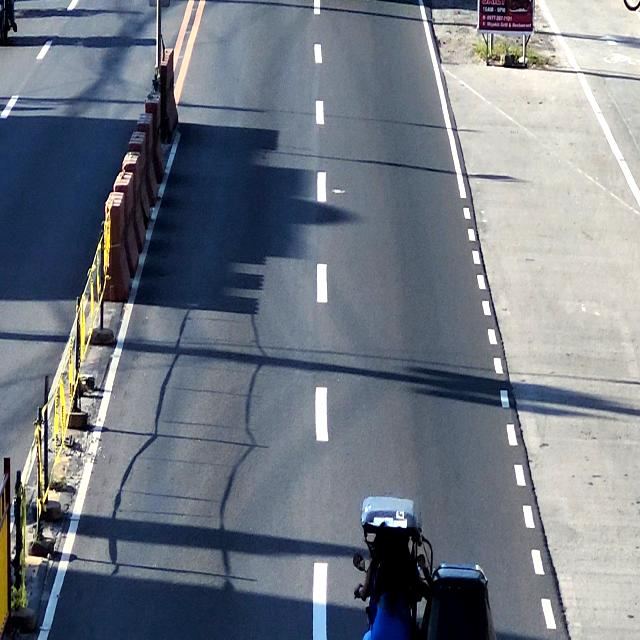Tricycle: (355, 496, 498, 640)
